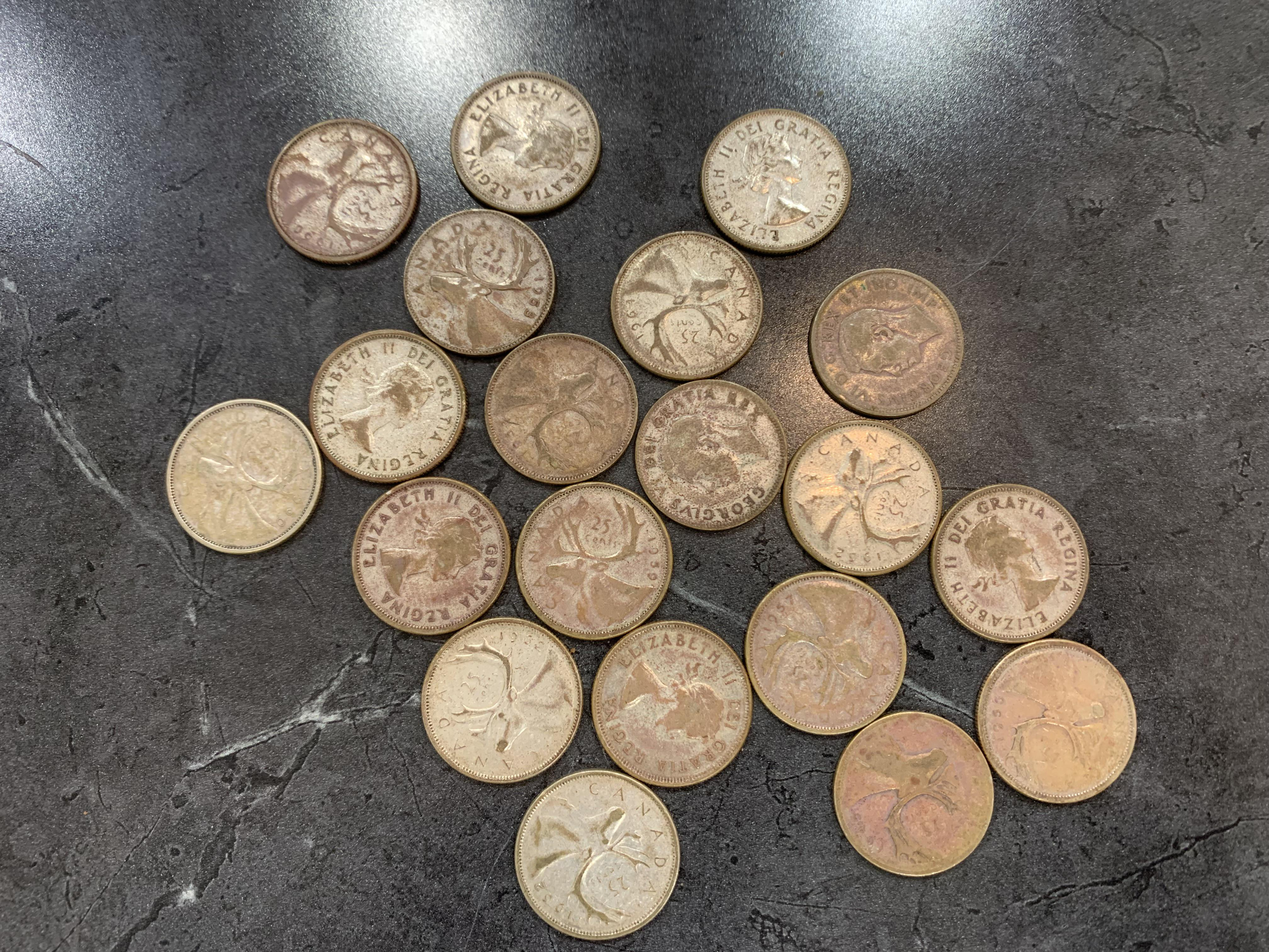coin: (515, 770, 680, 940), (421, 618, 583, 783), (592, 621, 752, 786), (745, 572, 906, 734), (977, 639, 1136, 803), (834, 711, 992, 876), (931, 484, 1089, 643), (352, 477, 510, 634), (783, 420, 941, 575), (516, 483, 672, 639), (166, 399, 322, 553), (309, 330, 466, 482), (485, 333, 638, 484), (635, 379, 787, 530), (810, 269, 963, 417), (611, 232, 762, 380), (404, 209, 555, 355), (267, 119, 418, 263), (450, 72, 600, 214), (702, 110, 851, 252)
